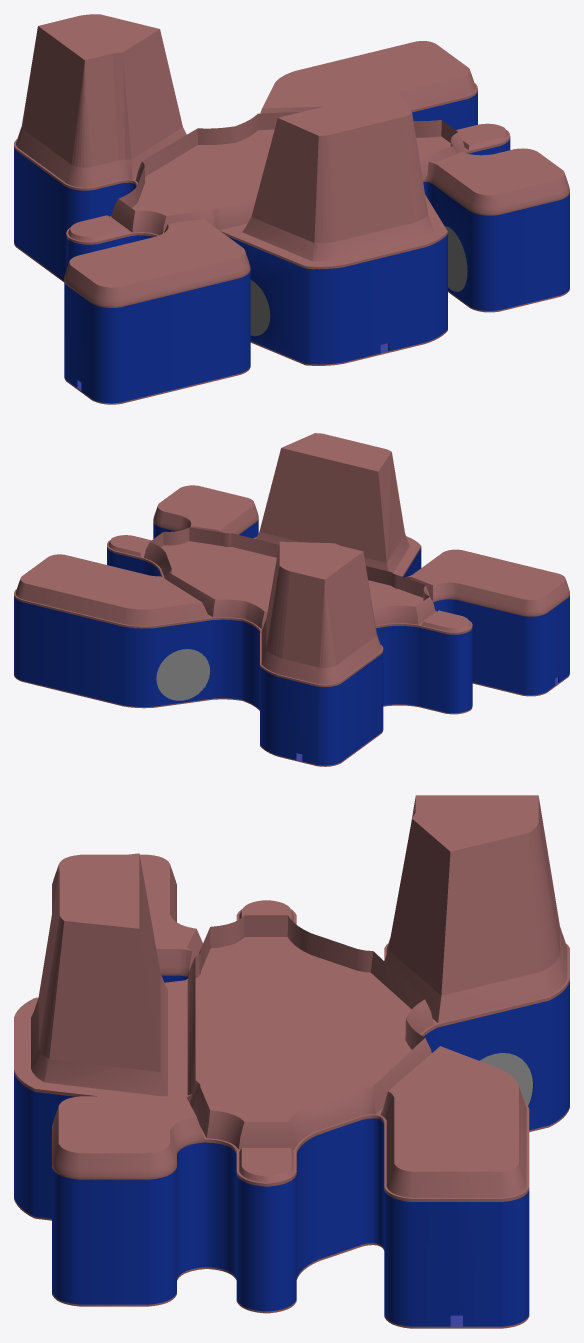
The model's file is SS Module Industrial 2.FBX.
3 views of the same model, one above another, from view 1: azimuth 30°, elevation 25°; view 2: azimuth 150°, elevation 25°; view 3: azimuth 270°, elevation 25° (orthographic). The views are drawn at different scales.
Parts seen in each view (by area): view 1: Floor019, Plane111, Floor016, Plane130, Plane131; view 2: Floor019, Plane111, Plane126, Floor016; view 3: Floor019, Plane111, Floor016, Plane127.
Part boxes in pixels (x1,y1,x2,y2): Floor019: [14, 14, 569, 307]; Plane111: [14, 91, 569, 403]; Floor016: [14, 242, 569, 404]; Plane130: [444, 226, 467, 291]; Plane131: [250, 280, 270, 335]; Floor019: [14, 433, 569, 686]; Plane111: [14, 519, 569, 765]; Plane126: [156, 649, 209, 700]; Floor016: [14, 673, 569, 766]; Floor019: [14, 795, 569, 1201]; Plane111: [14, 975, 569, 1326]; Floor016: [14, 1106, 569, 1328]; Plane127: [479, 1053, 532, 1105].
Bounding box in the file's own units: 254 × 103 × 183.
